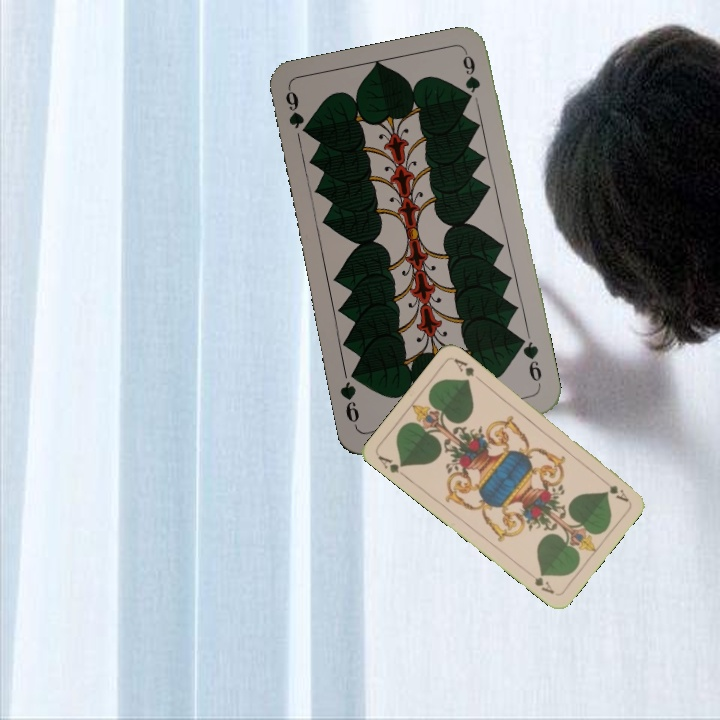G9: (281, 86, 312, 139), (516, 335, 544, 392)
GA: (597, 474, 631, 505), (374, 451, 409, 480)
